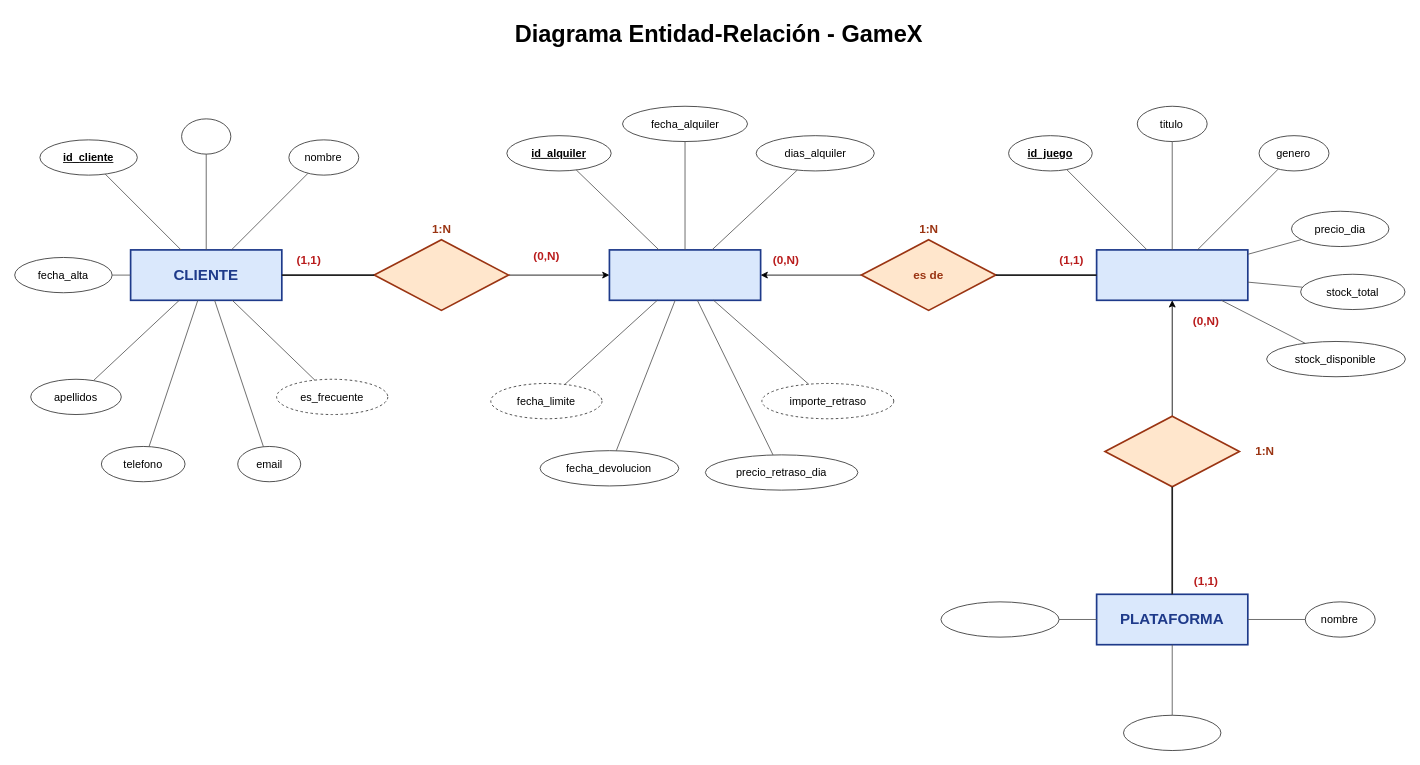
Image size: 1420x765. Some labels were removed from this diagram. The box of each missing label's shape, as (x1, y1, x2, y2) in pixels:
ALQUILER: (608, 249, 761, 301)
dni: (181, 118, 231, 154)
fabricante: (1123, 714, 1221, 751)
id_plataforma: (940, 601, 1059, 637)
JUEGO: (1095, 249, 1248, 301)
pertenece: (1104, 415, 1240, 487)
realiza: (373, 239, 509, 311)
